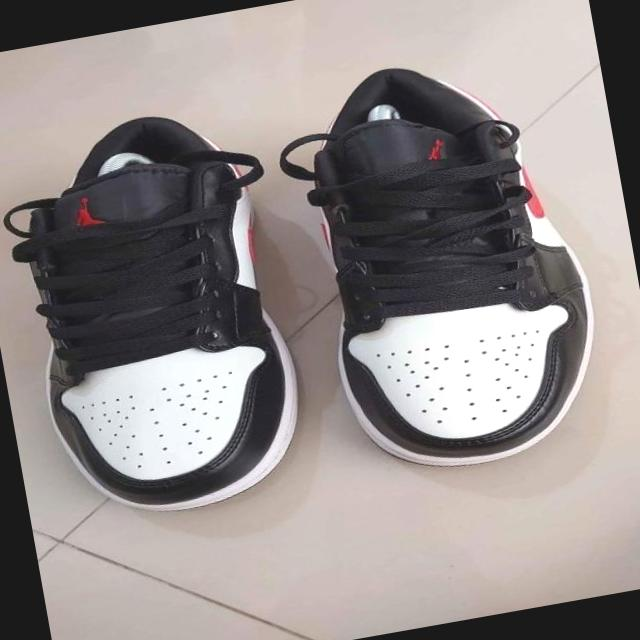nike_fake_jordan: (266, 38, 632, 492), (0, 95, 328, 531)
